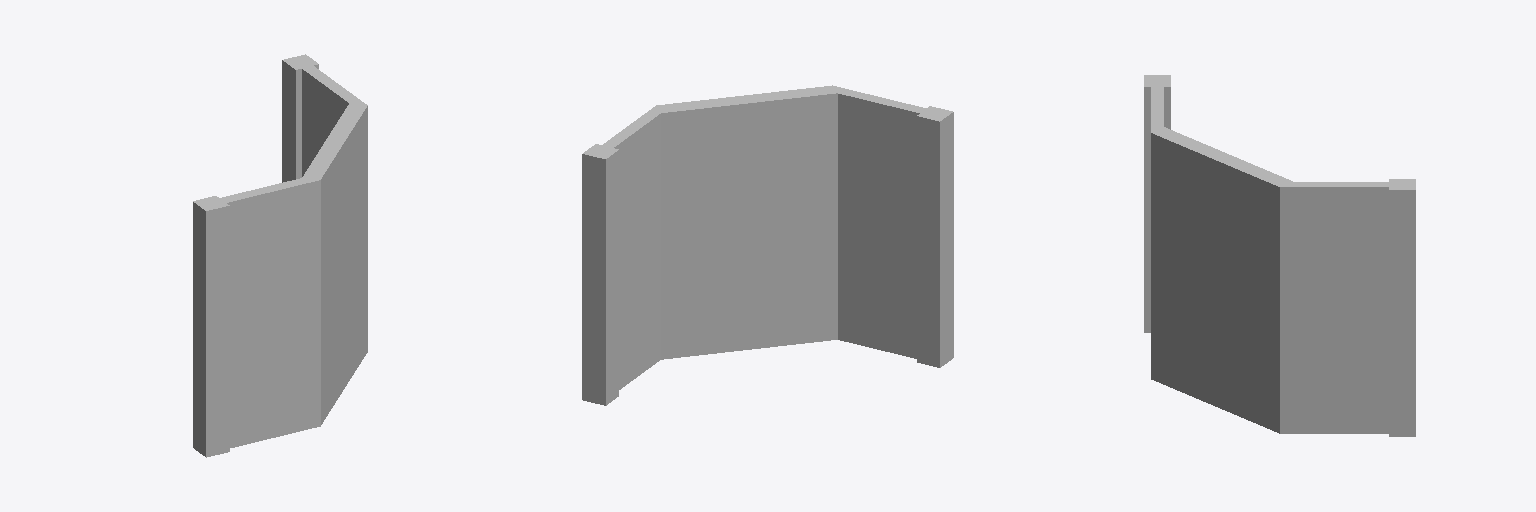
Rendered from wallWoodCornerDiagonal.obj.
The picture shows the model from 3 angles: view 1: azimuth 30°, elevation 25°; view 2: azimuth 150°, elevation 25°; view 3: azimuth 270°, elevation 25°; orthographic projection.
Parts seen in each view (by area): view 1: wallWoodCornerDiagonal; view 2: wallWoodCornerDiagonal; view 3: wallWoodCornerDiagonal.
Part boxes in pixels (x1,y1,x2,y2): wallWoodCornerDiagonal: (193,54,367,457); wallWoodCornerDiagonal: (582,85,953,405); wallWoodCornerDiagonal: (1144,75,1415,436).
Size of the model in its own units: 1 by 1 by 1.